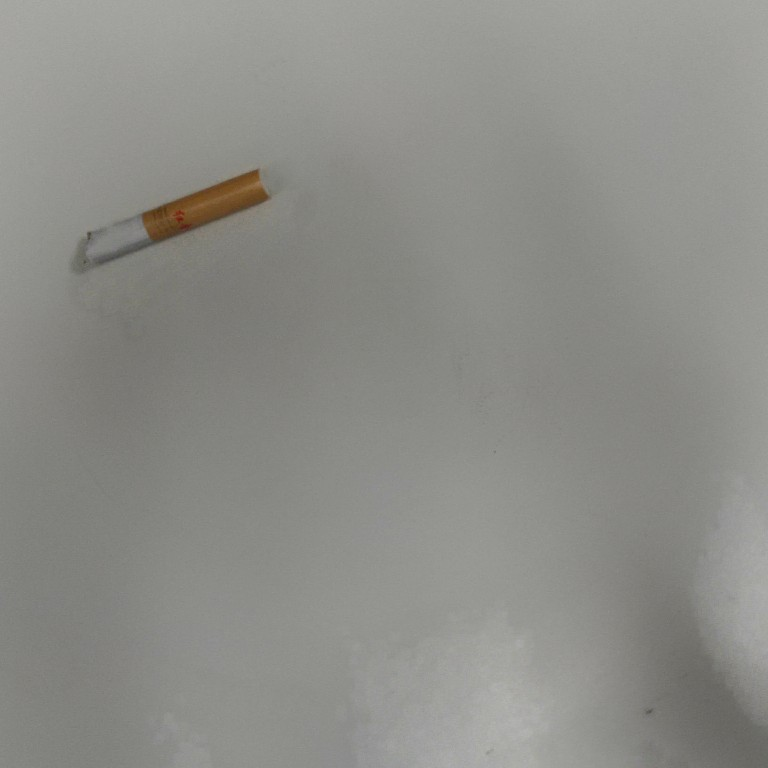cigarette: (72, 165, 290, 269)
